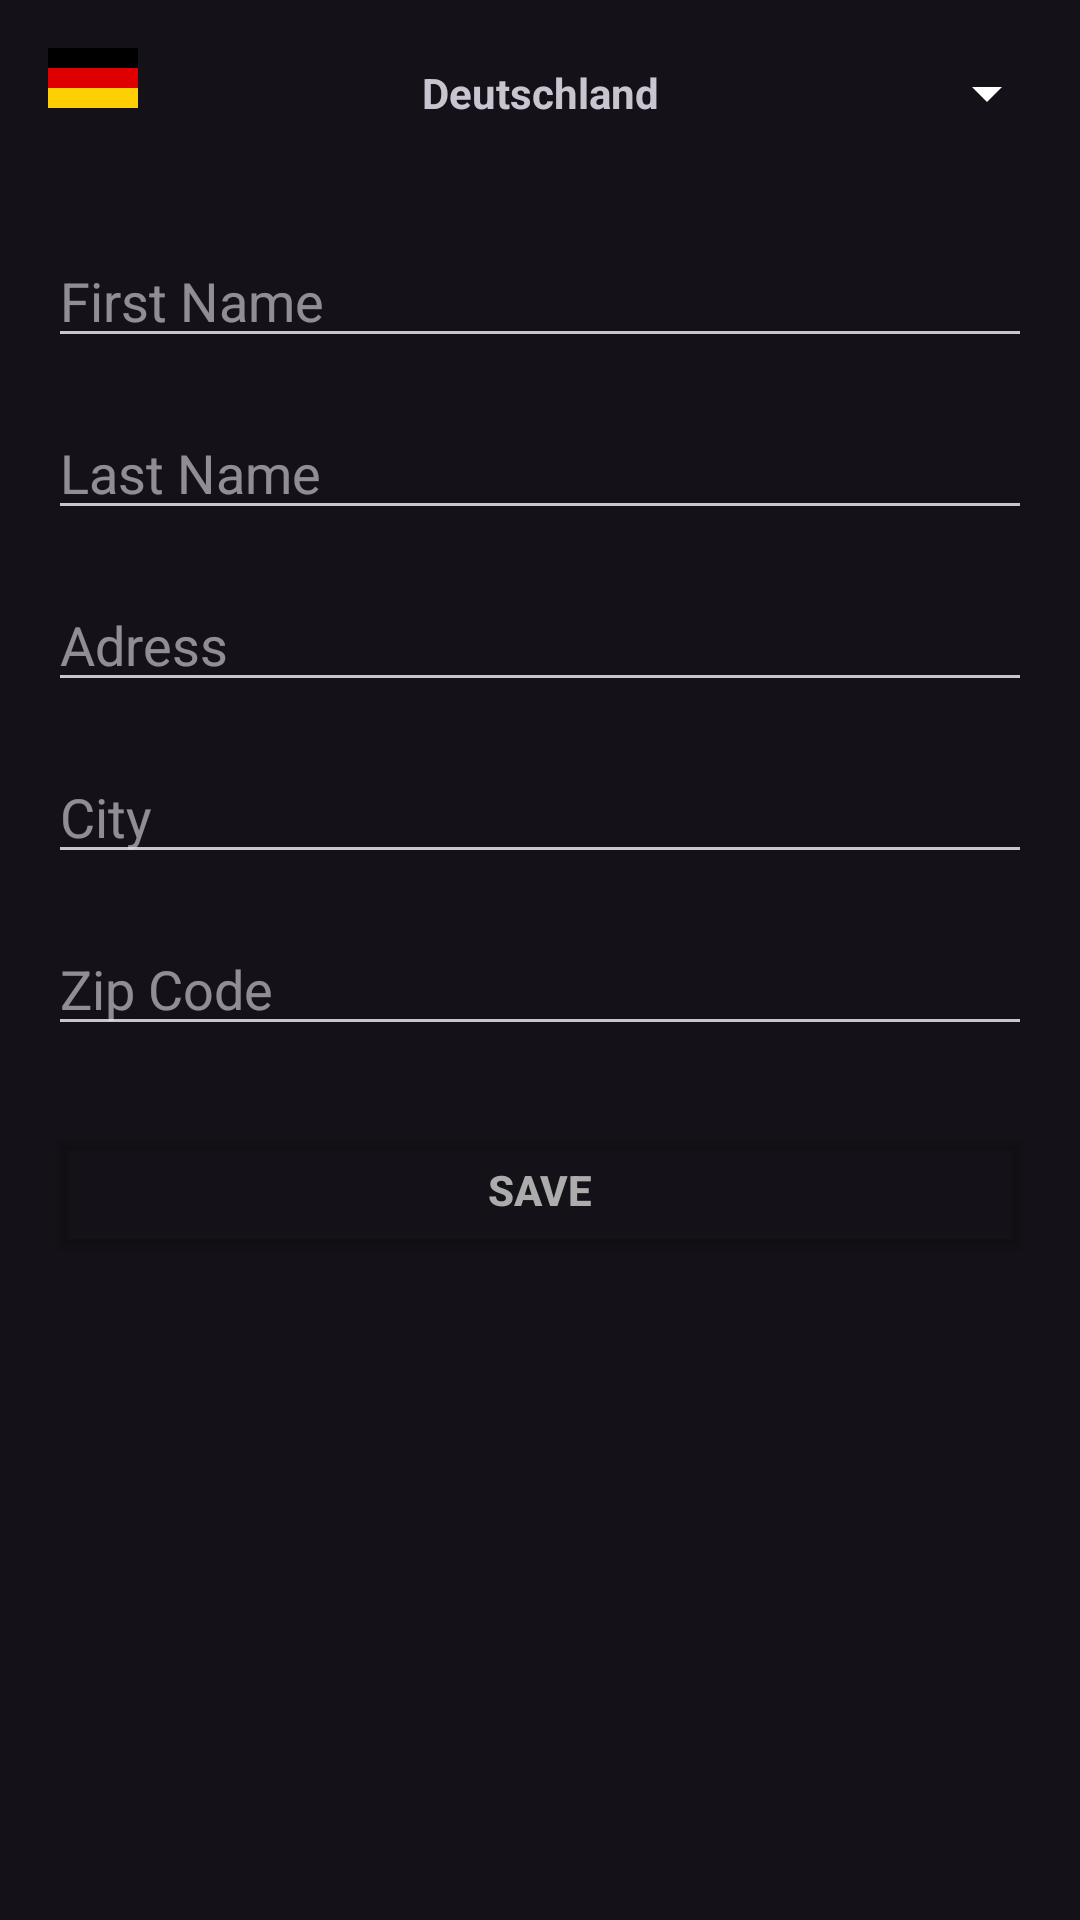

Icon click points for this 1080px×1920px phone screenshot, format (x=x, y=y):
arrow drop down: (x=987, y=94)
germany: (x=93, y=88)
